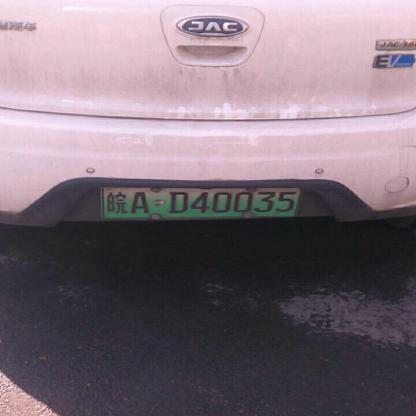lp: (102, 184, 301, 218)
